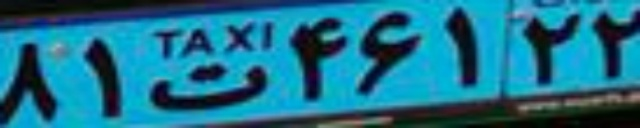1: (81, 37, 122, 118), (442, 6, 479, 86)
2: (521, 12, 582, 86), (593, 7, 639, 78)
4: (287, 16, 349, 102)
6: (359, 11, 422, 94)
8: (0, 41, 59, 125)
te: (147, 62, 268, 111)
